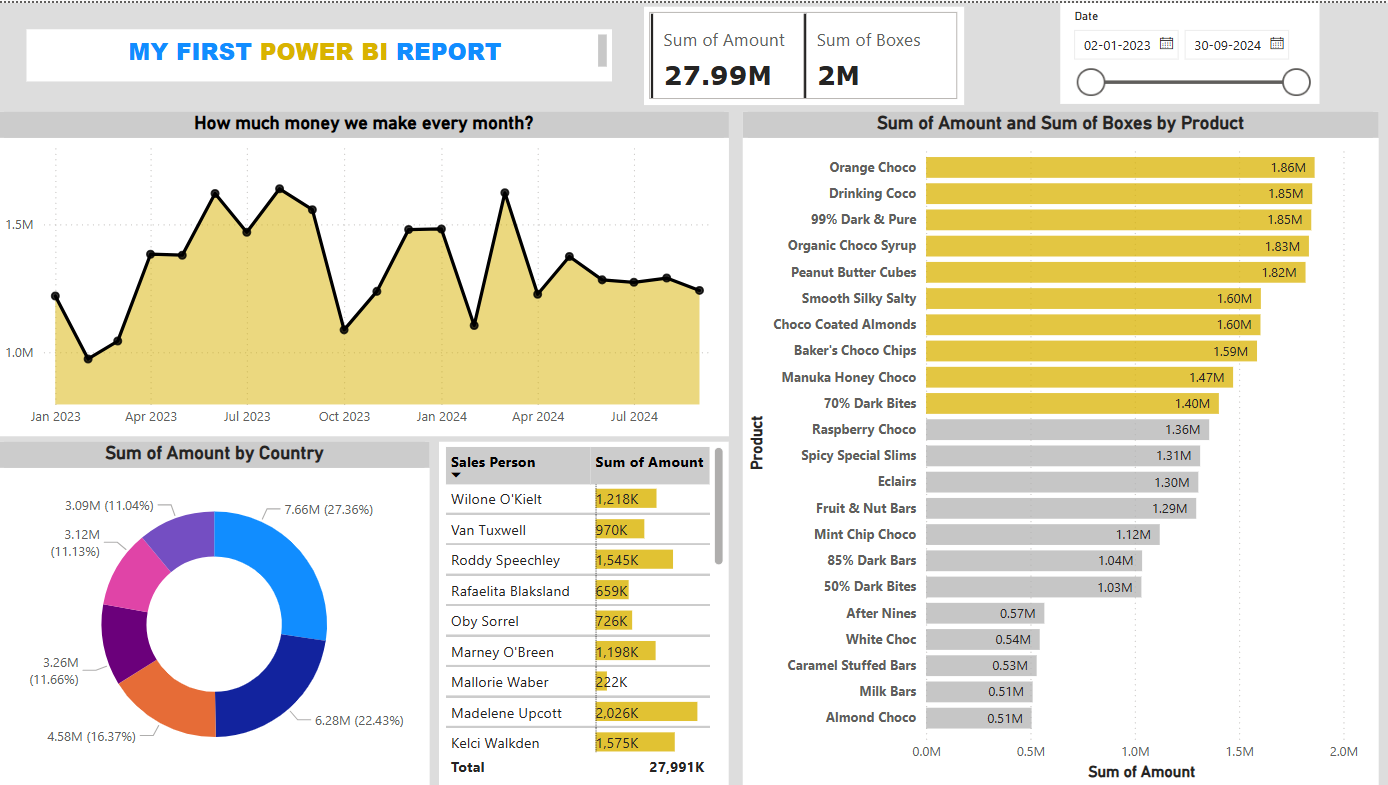

The page's visual inventory and layout, read from the dashboard file:
{"tool":"powerbi","page":{"name":"1st power bi report","canvas":[1280,720],"ordinal":0},"visuals":[{"type":"lineChart","title":"How much money we make every month?","fields":{"Y":["data.Amount"],"Category":["data.Date.Variation.Date Hierarchy.Year","data.Date.Variation.Date Hierarchy.Quarter","data.Date.Variation.Date Hierarchy.Month","data.Date.Variation.Date Hierarchy.Day"]},"box":[0,100.3,671.3,298.4],"z":0},{"type":"donutChart","fields":{"Y":["data.Amount"],"Category":["data.Country"]},"box":[0,403.5,396.2,316.7],"z":1000},{"type":"tableEx","fields":{"Values":["data.Sales Person","data.Amount"]},"box":[404.8,403.5,266.6,316.7],"z":2000},{"type":"clusteredBarChart","fields":{"Category":["data.Product"],"Y":["data.Amount"]},"box":[683.6,100.3,584.5,620],"z":3000},{"type":"cardVisual","fields":{"Data":["data.Amount","data.Boxes"]},"box":[593.1,3.7,294.7,90.5],"z":4000},{"type":"textbox","box":[25.6,24.4,538.4,47.7],"z":5000},{"type":"slicer","fields":{"Values":["data.Date"]},"box":[975.8,0,238.5,92.9],"z":6000}]}

Visuals, with their boxes in screenshot pixels (x1, y1, x2, y2), scaled from the page's 1280x720 canvas onto the 1388x785 screenshot:
"How much money we make every month?" lineChart: bbox=(0, 109, 728, 435)
donutChart - data.Amount x data.Country: bbox=(0, 440, 430, 784)
tableEx - data.Sales Person x data.Amount: bbox=(439, 440, 728, 784)
clusteredBarChart - data.Product x data.Amount: bbox=(741, 109, 1375, 784)
cardVisual - data.Amount x data.Boxes: bbox=(643, 4, 963, 103)
textbox: bbox=(28, 27, 612, 79)
slicer - data.Date: bbox=(1058, 0, 1317, 101)
